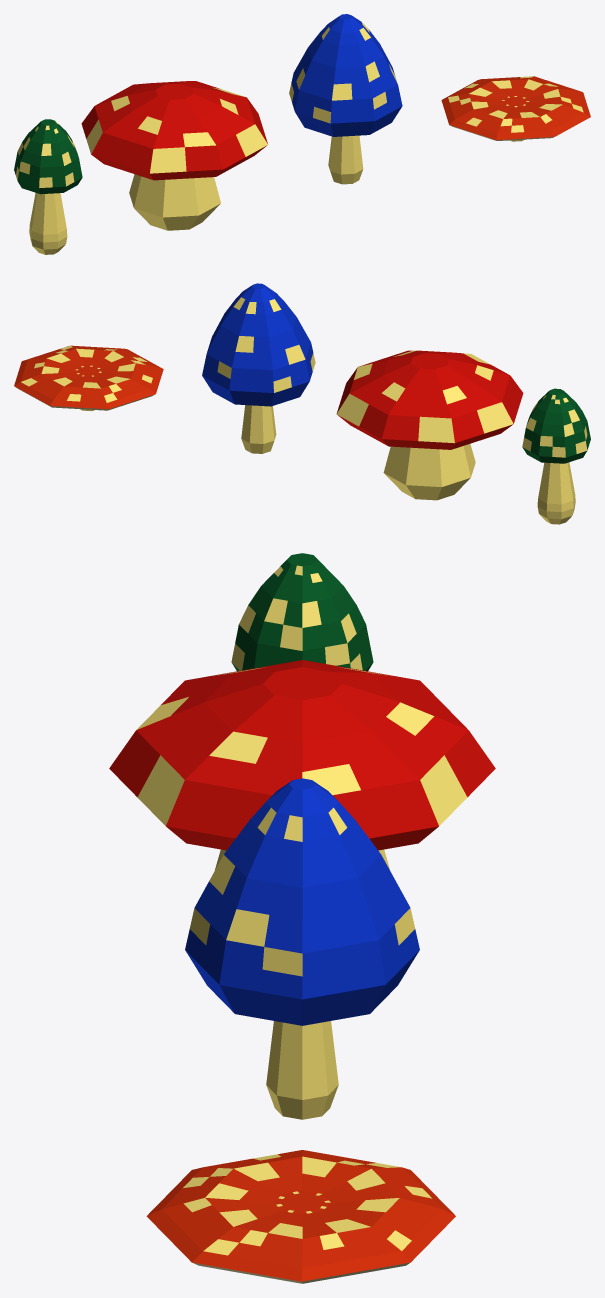
Rendered from Hongo Azul.obj.
3 views of the same model, one above another, from view 1: azimuth 30°, elevation 25°; view 2: azimuth 150°, elevation 25°; view 3: azimuth 270°, elevation 25° (orthographic). The views are drawn at different scales.
Visible parts, largest first — view 1: Cylinder.023, Cylinder.026, Cylinder.025, Cylinder.024; view 2: Cylinder.023, Cylinder.026, Cylinder.025, Cylinder.024; view 3: Cylinder.023, Cylinder.026, Cylinder.025, Cylinder.024.
Boxes of the visible parts, x1=… form: Cylinder.023: x1=81, y1=81, x2=268, y2=230; Cylinder.026: x1=289, y1=14, x2=402, y2=184; Cylinder.025: x1=441, y1=76, x2=590, y2=141; Cylinder.024: x1=14, y1=119, x2=82, y2=254; Cylinder.023: x1=336, y1=350, x2=523, y2=500; Cylinder.026: x1=202, y1=283, x2=315, y2=453; Cylinder.025: x1=14, y1=345, x2=163, y2=411; Cylinder.024: x1=522, y1=388, x2=590, y2=524; Cylinder.023: x1=109, y1=660, x2=495, y2=869; Cylinder.026: x1=185, y1=778, x2=419, y2=1119; Cylinder.025: x1=146, y1=1150, x2=455, y2=1283; Cylinder.024: x1=231, y1=553, x2=373, y2=671.
Bounding box in the file's own units: 9.5 × 2.6 × 2.81.
